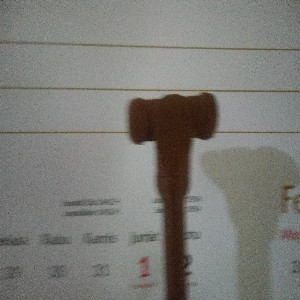palu: (128, 91, 218, 300)
